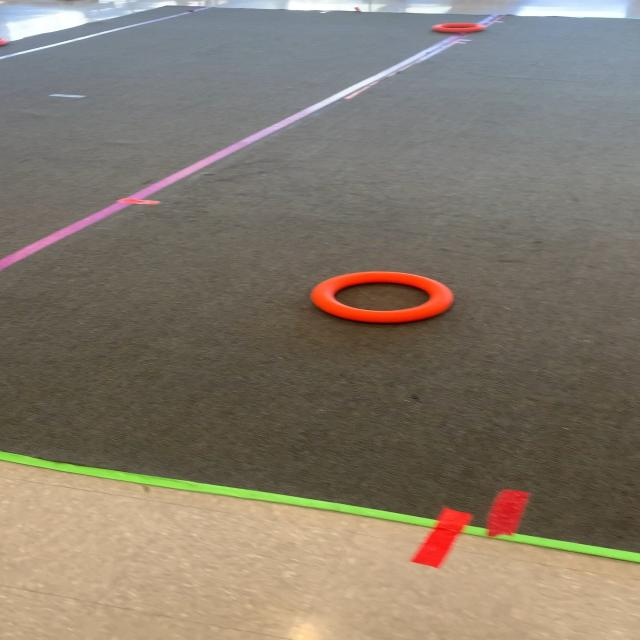notes: (313, 270, 457, 326), (429, 20, 486, 34)
